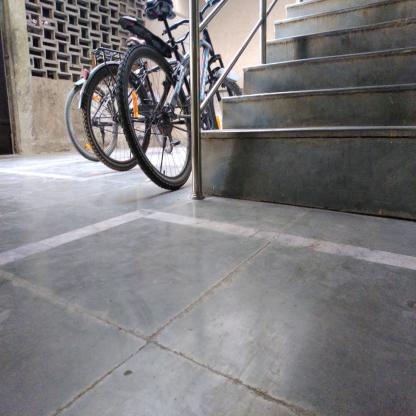stairs: (278, 18, 416, 234)
